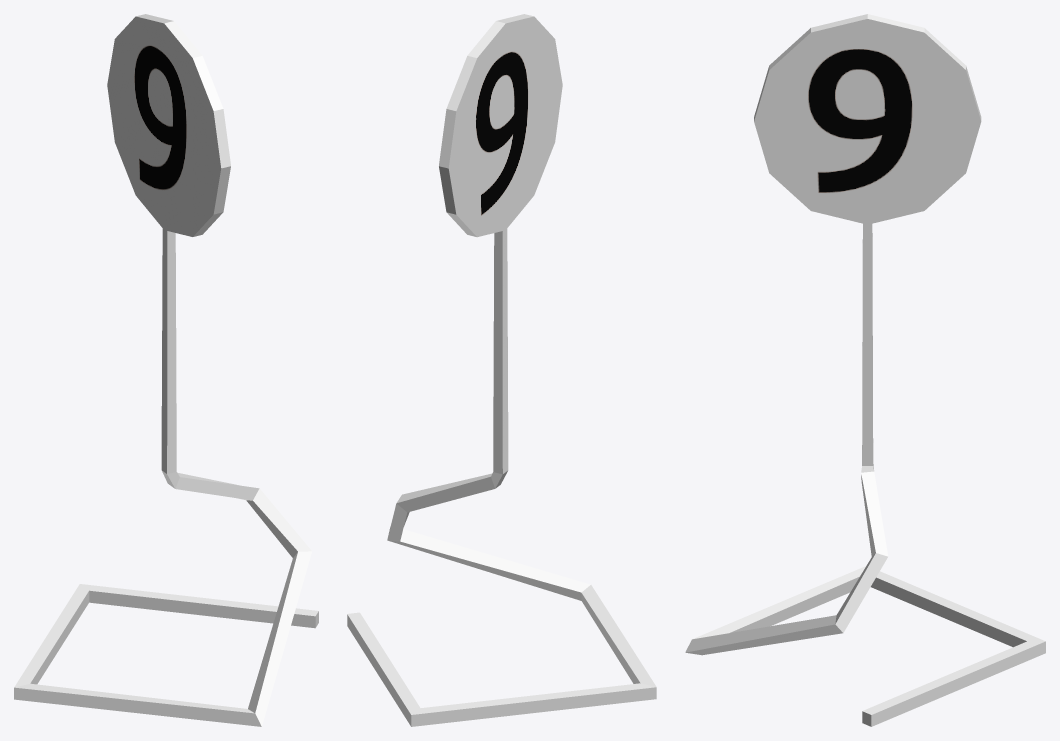
The model's file is Marker_9.FBX.
The picture shows the model from 3 angles, left to right: view 1: azimuth 30°, elevation 25°; view 2: azimuth 150°, elevation 25°; view 3: azimuth 270°, elevation 25°; orthographic projection.
Parts seen in each view (by area): view 1: Marker_9; view 2: Marker_9; view 3: Marker_9.
Part boxes in pixels (x1=…): Marker_9: x1=14, y1=14, x2=318, y2=726; Marker_9: x1=347, y1=14, x2=656, y2=726; Marker_9: x1=685, y1=14, x2=1045, y2=726.
Size of the model in its own units: 4.03 by 8.02 by 4.11.
